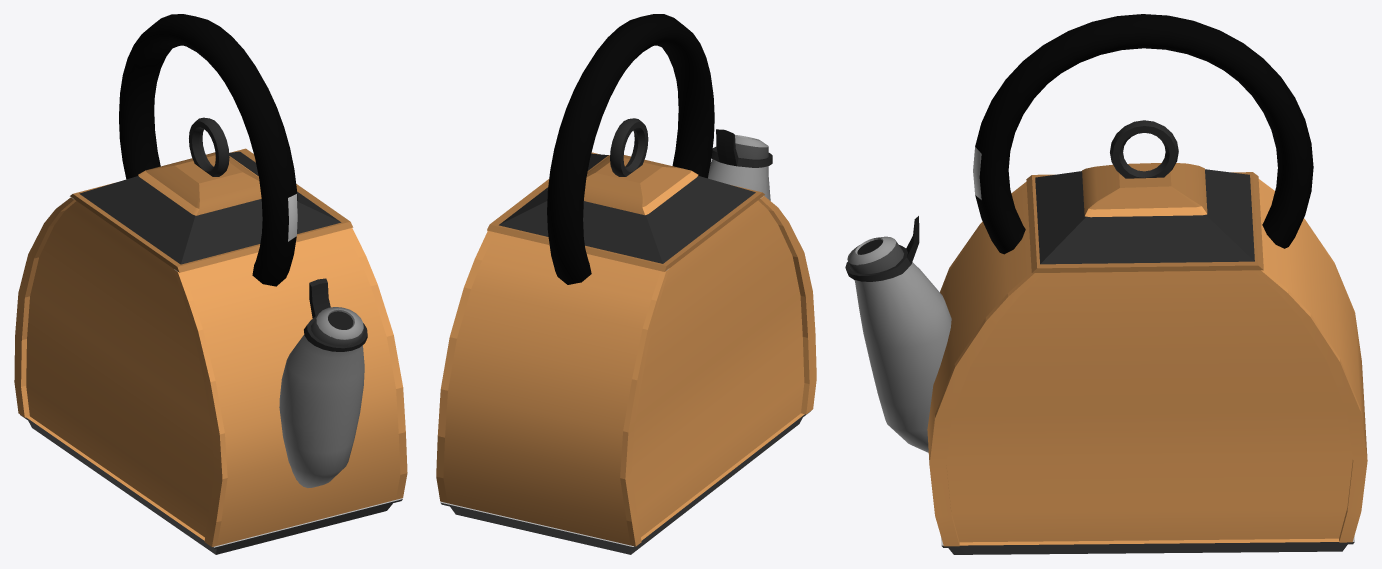
The model's file is Kettle.fbx.
The picture shows the model from 3 angles, left to right: view 1: azimuth 30°, elevation 25°; view 2: azimuth 150°, elevation 25°; view 3: azimuth 270°, elevation 25°; orthographic projection. The views are drawn at different scales.
Visible parts, largest first — view 1: polySurface10; view 2: polySurface10; view 3: polySurface10.
Boxes of the visible parts, box(x1,y1,x2,y2) form: polySurface10: box(14, 14, 407, 554); polySurface10: box(436, 14, 816, 554); polySurface10: box(845, 14, 1367, 554).
Bounding box in the file's own units: 13.92 × 29.42 × 28.35.
